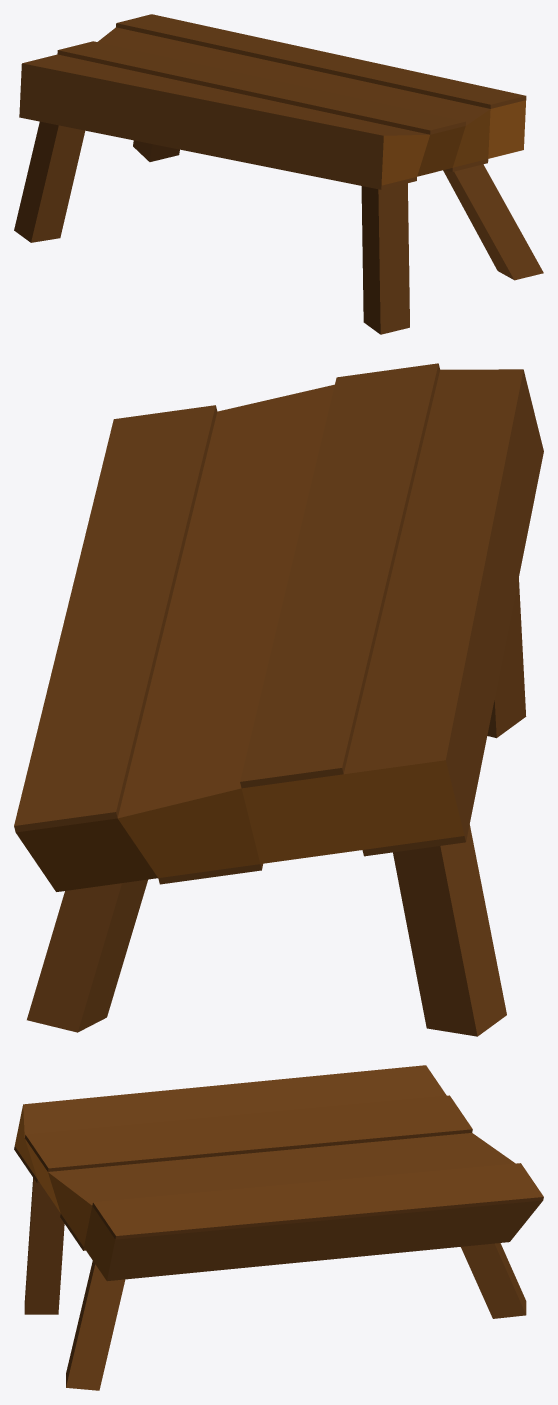
Rendered from table.gltf.
3 renders of one model, top to bottom at view 1: azimuth 30°, elevation 25°; view 2: azimuth 150°, elevation 25°; view 3: azimuth 270°, elevation 25°, orthographic. The views are drawn at different scales.
Parts seen in each view (by area): view 1: Cube, Cube.001, Cube.004, Cube.002, Cube.003; view 2: Cube, Cube.004, Cube.003, Cube.001; view 3: Cube, Cube.002, Cube.001, Cube.003.
Part boxes in pixels (box(x1,y1,x2,y2)): Cube: box(19, 14, 526, 189); Cube.001: box(361, 183, 409, 334); Cube.004: box(14, 121, 85, 242); Cube.002: box(443, 164, 543, 280); Cube.003: box(133, 140, 179, 161); Cube: box(14, 363, 543, 891); Cube.004: box(393, 824, 506, 1036); Cube.003: box(27, 879, 147, 1032); Cube.001: box(487, 578, 526, 738); Cube: box(14, 1065, 543, 1281); Cube.002: box(66, 1261, 125, 1390); Cube.001: box(24, 1178, 64, 1314); Cube.003: box(461, 1243, 526, 1318).
Bounding box in the file's own units: 6.12 × 3.25 × 7.86.
